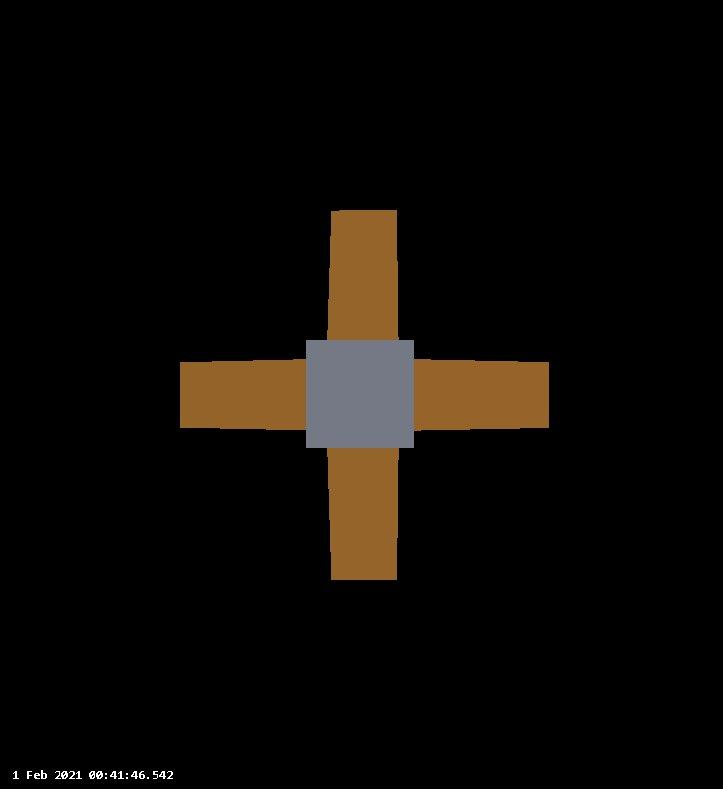body: (303, 337, 417, 450)
solar: (323, 446, 403, 584), (411, 357, 551, 433), (325, 207, 401, 341), (177, 357, 308, 432)
